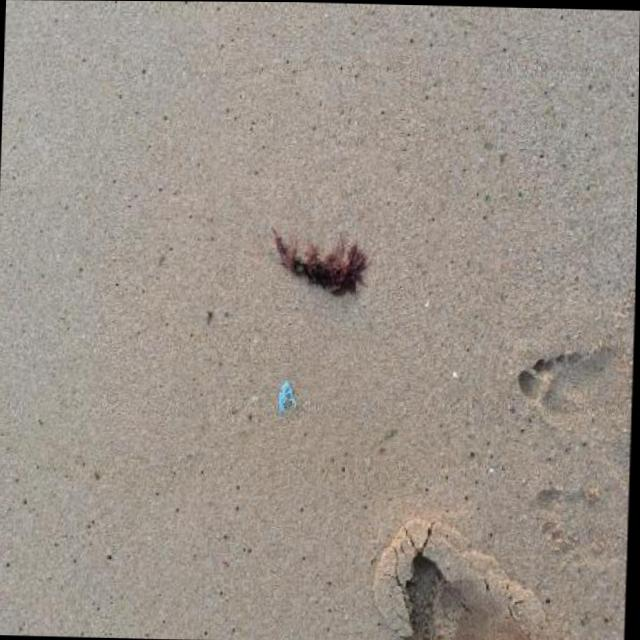plastic: (278, 379, 298, 413)
